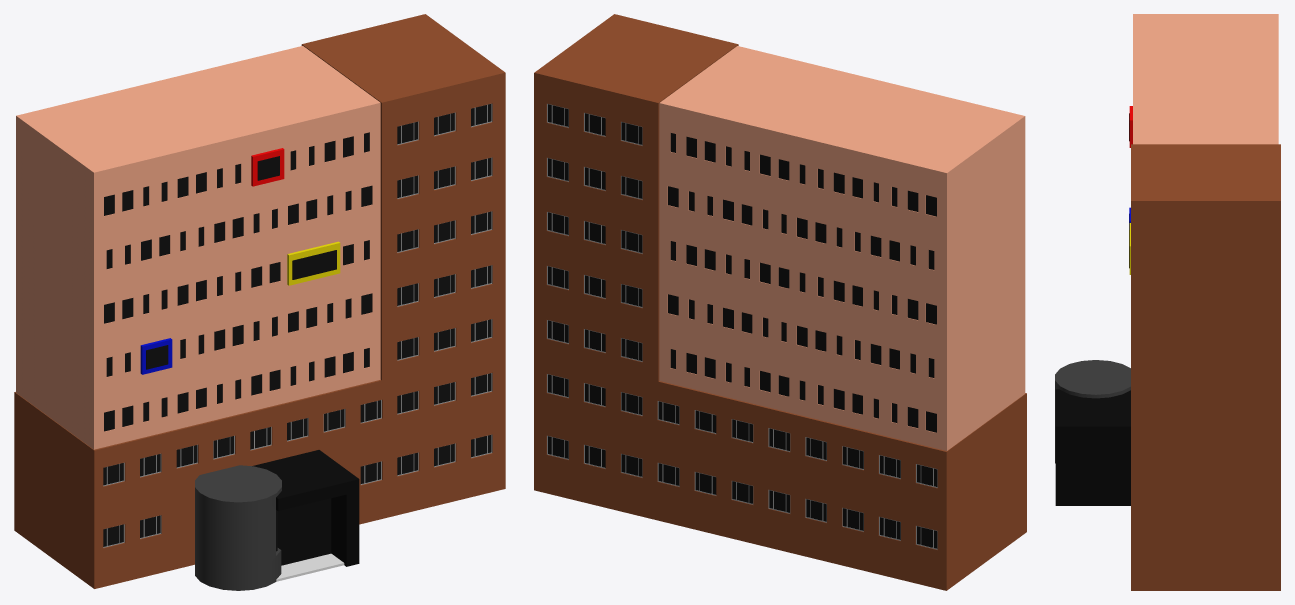
File: sangvil.fbx
The picture shows the model from 3 angles, left to right: view 1: azimuth 30°, elevation 25°; view 2: azimuth 150°, elevation 25°; view 3: azimuth 270°, elevation 25°; orthographic projection. The views are drawn at different scales.
Parts seen in each view (by area): view 1: Box003, Box001, Box133, Cylinder001, Box004, Box047, Box134, Box008, Box117, Box135; view 2: Box003, Box001, Box426; view 3: Box001, Box003, Box004, Cylinder001.
Boxes of the visible parts, x1,y1,x2,y2 form: Box003: [16, 46, 380, 449]; Box001: [14, 14, 505, 588]; Box133: [104, 132, 372, 431]; Cylinder001: [195, 465, 281, 590]; Box004: [252, 450, 359, 566]; Box047: [277, 498, 331, 565]; Box134: [287, 241, 340, 285]; Box008: [276, 553, 344, 581]; Box117: [292, 250, 336, 279]; Box135: [251, 148, 284, 186]; Box003: [659, 46, 1025, 450]; Box001: [534, 14, 1026, 590]; Box426: [668, 133, 936, 432]; Box001: [1131, 144, 1280, 590]; Box003: [1133, 14, 1278, 144]; Box004: [1055, 389, 1130, 505]; Cylinder001: [1055, 360, 1130, 463].
Bounding box in the file's own units: 559 × 541 × 284.
